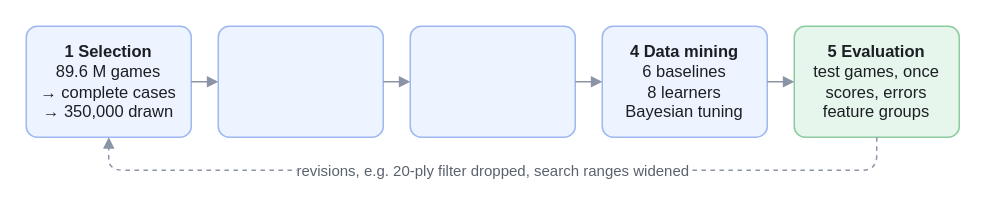
Image size: 986x207. Some labels were removed from this diagram. Here are the shapes that lost their labels. From the top down, the box of each, then its label:
(217, 25, 383, 137): 2 Preprocessing one row per move 38 features + Stockfish
(409, 25, 575, 137): 3 Transformation fixed tables validation games model encodings
